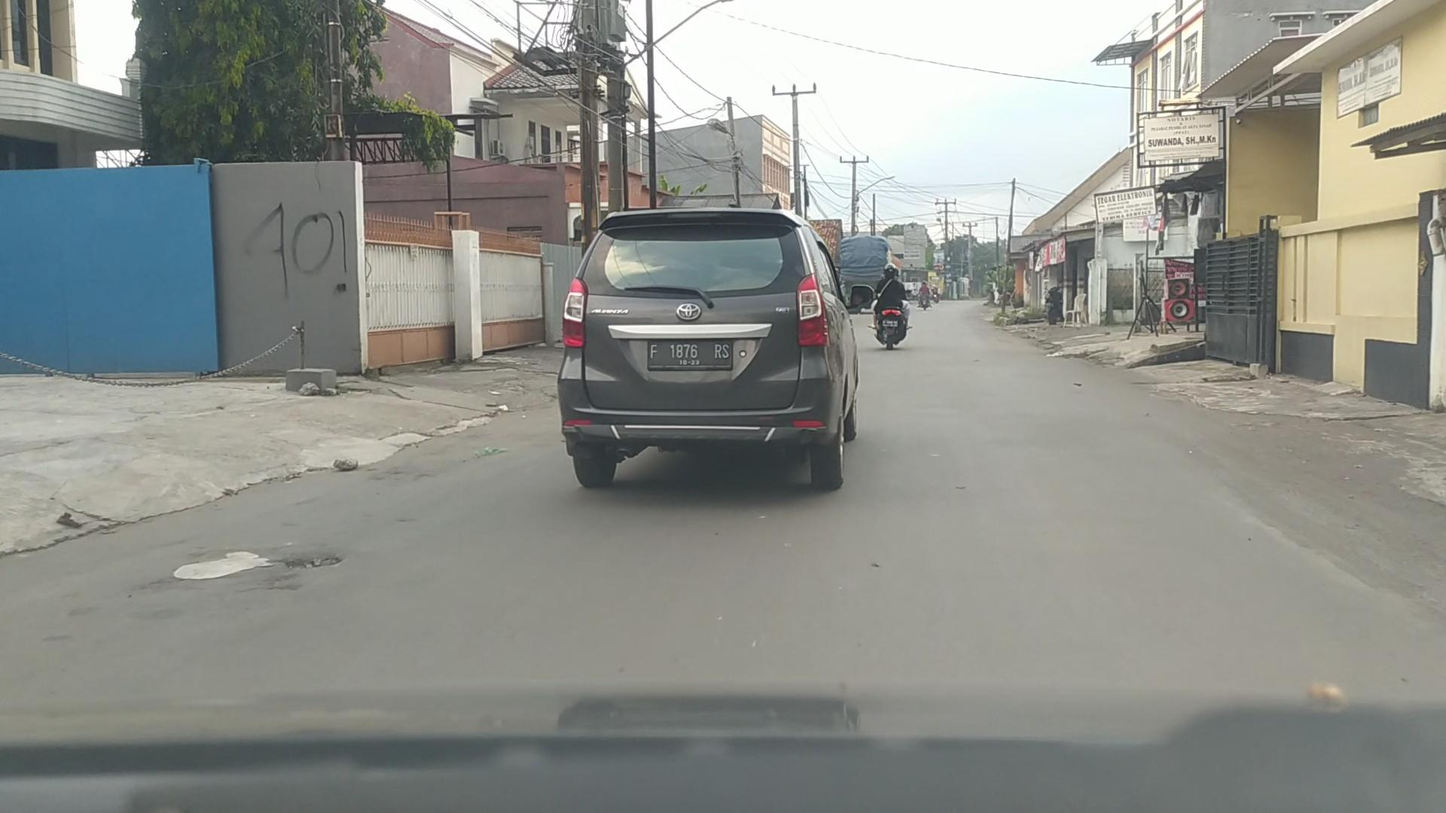pothole: (284, 552, 344, 568)
